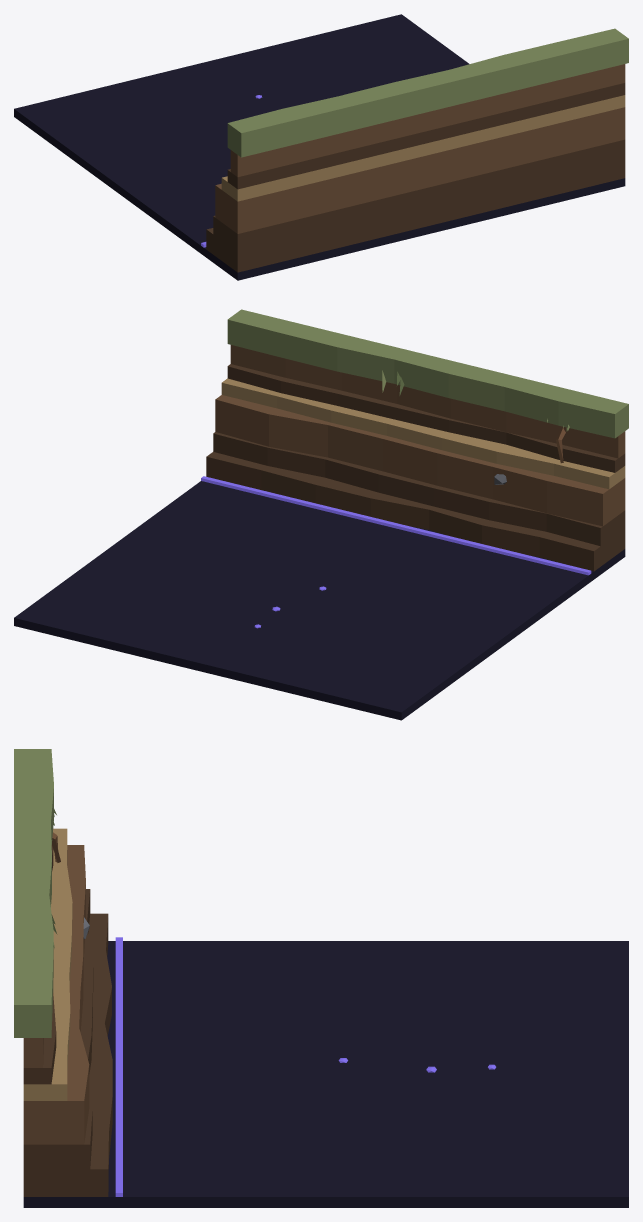
File: Chasm 1.fbx
3 renders of one model, top to bottom at view 1: azimuth 30°, elevation 25°; view 2: azimuth 150°, elevation 25°; view 3: azimuth 270°, elevation 25°, orthographic. The views are drawn at different scales.
Parts seen in each view (by area): view 1: Chasm 1; view 2: Chasm 1; view 3: Chasm 1.
Part boxes in pixels (x1,y1,x2,y2): Chasm 1: (14,14,628,280); Chasm 1: (14,309,628,720); Chasm 1: (14,749,628,1207).
Size of the model in its own units: 1 by 0.37 by 1.02.
